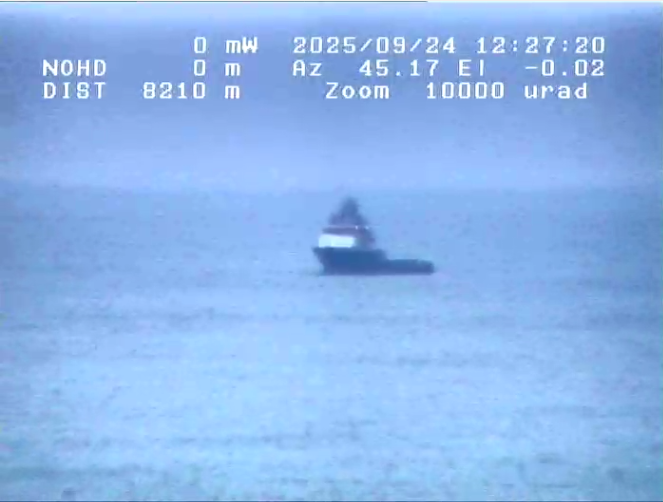OFFSHORE_SUPPLY_VESSEL: (303, 182, 465, 295)
